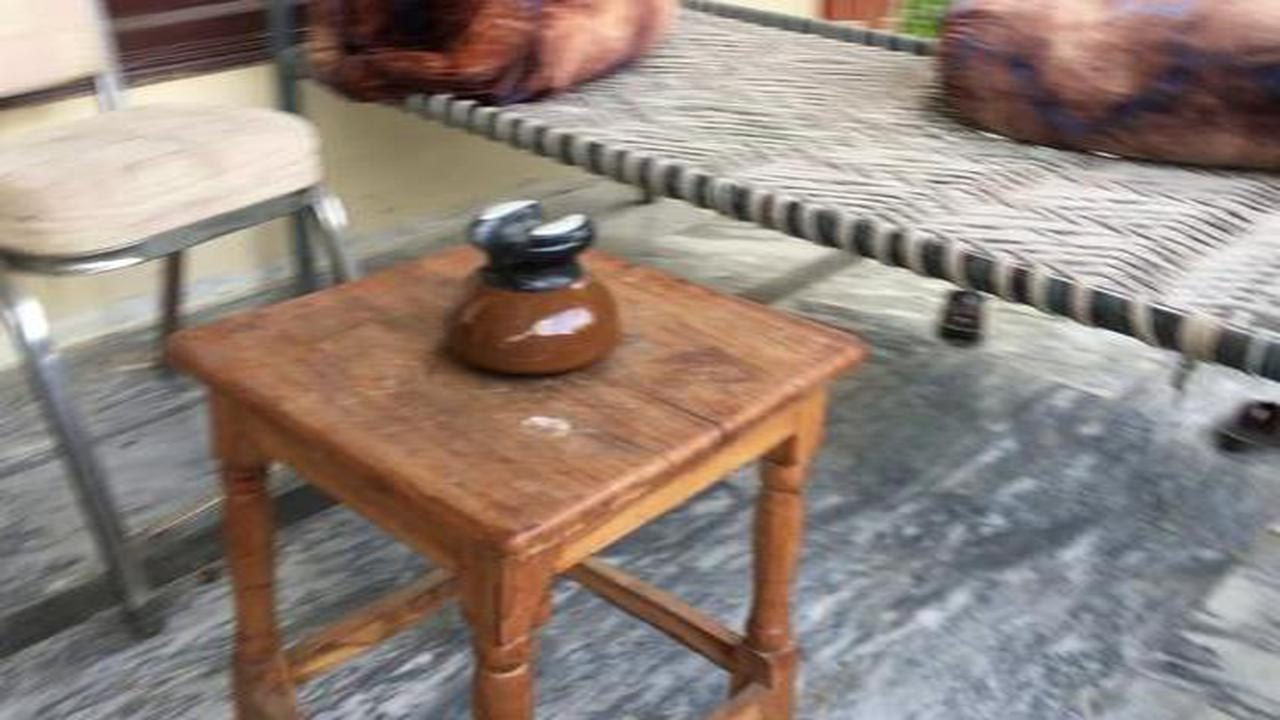insulator_pin: (431, 190, 634, 386)
